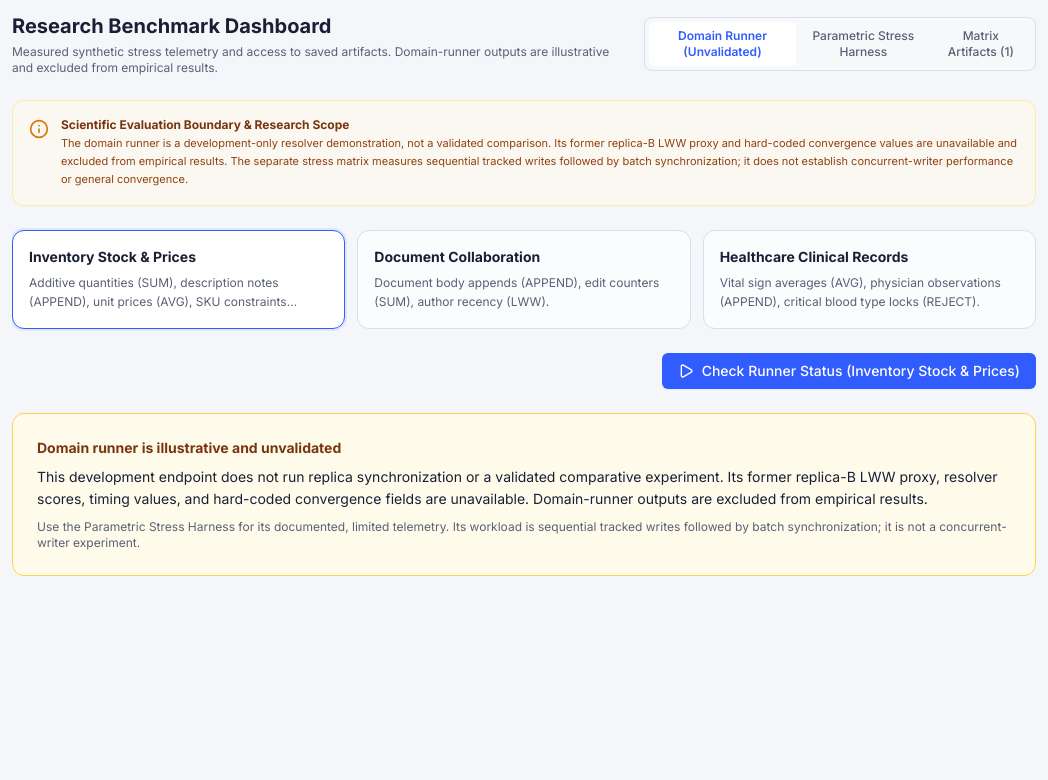
it: Phase 7 Integration Tests › Analytics Benchmark Suite Tests › allows switching between tabs and lists empirical artifacts with preview and download
This screenshot has width=1048, height=780.
Expected: the heading "Research Benchmark Dashboard" is shown, [12,14,332,38]
Expected: the heading "Domain runner is illustrative and unvalidated" is shown, [37,439,341,456]
Note: Switch to Matrix Artifacts tab
Step 1. Click the button "Matrix Artifacts (1)" → click(981, 44), box [931,22,1031,66]
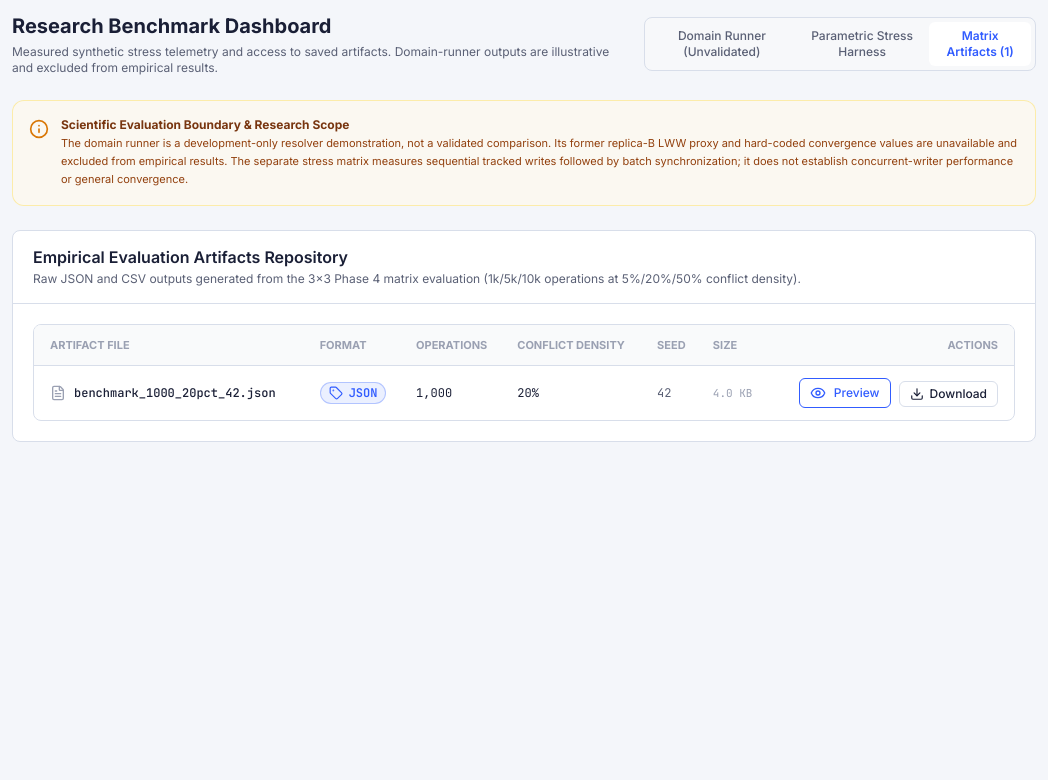
Now the text "benchmark_1000_20pct_42.json" is shown, box [74,385,276,401]
Now the button "Preview" is shown, box [799,378,890,408]
